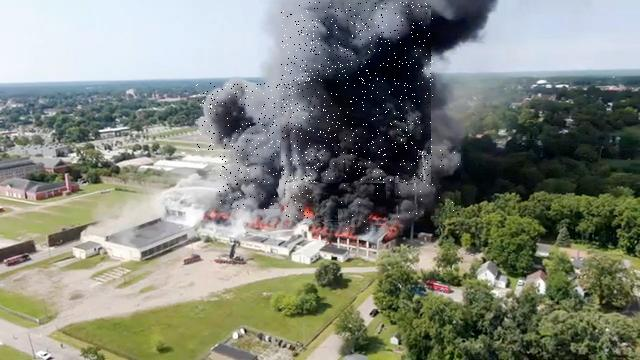smoke: (282, 2, 434, 183), (196, 83, 280, 151), (394, 146, 461, 219), (217, 144, 279, 209), (339, 171, 386, 231), (285, 176, 312, 218), (316, 194, 341, 225)
